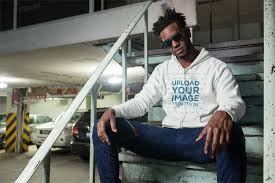sitting: (89, 7, 254, 183)
